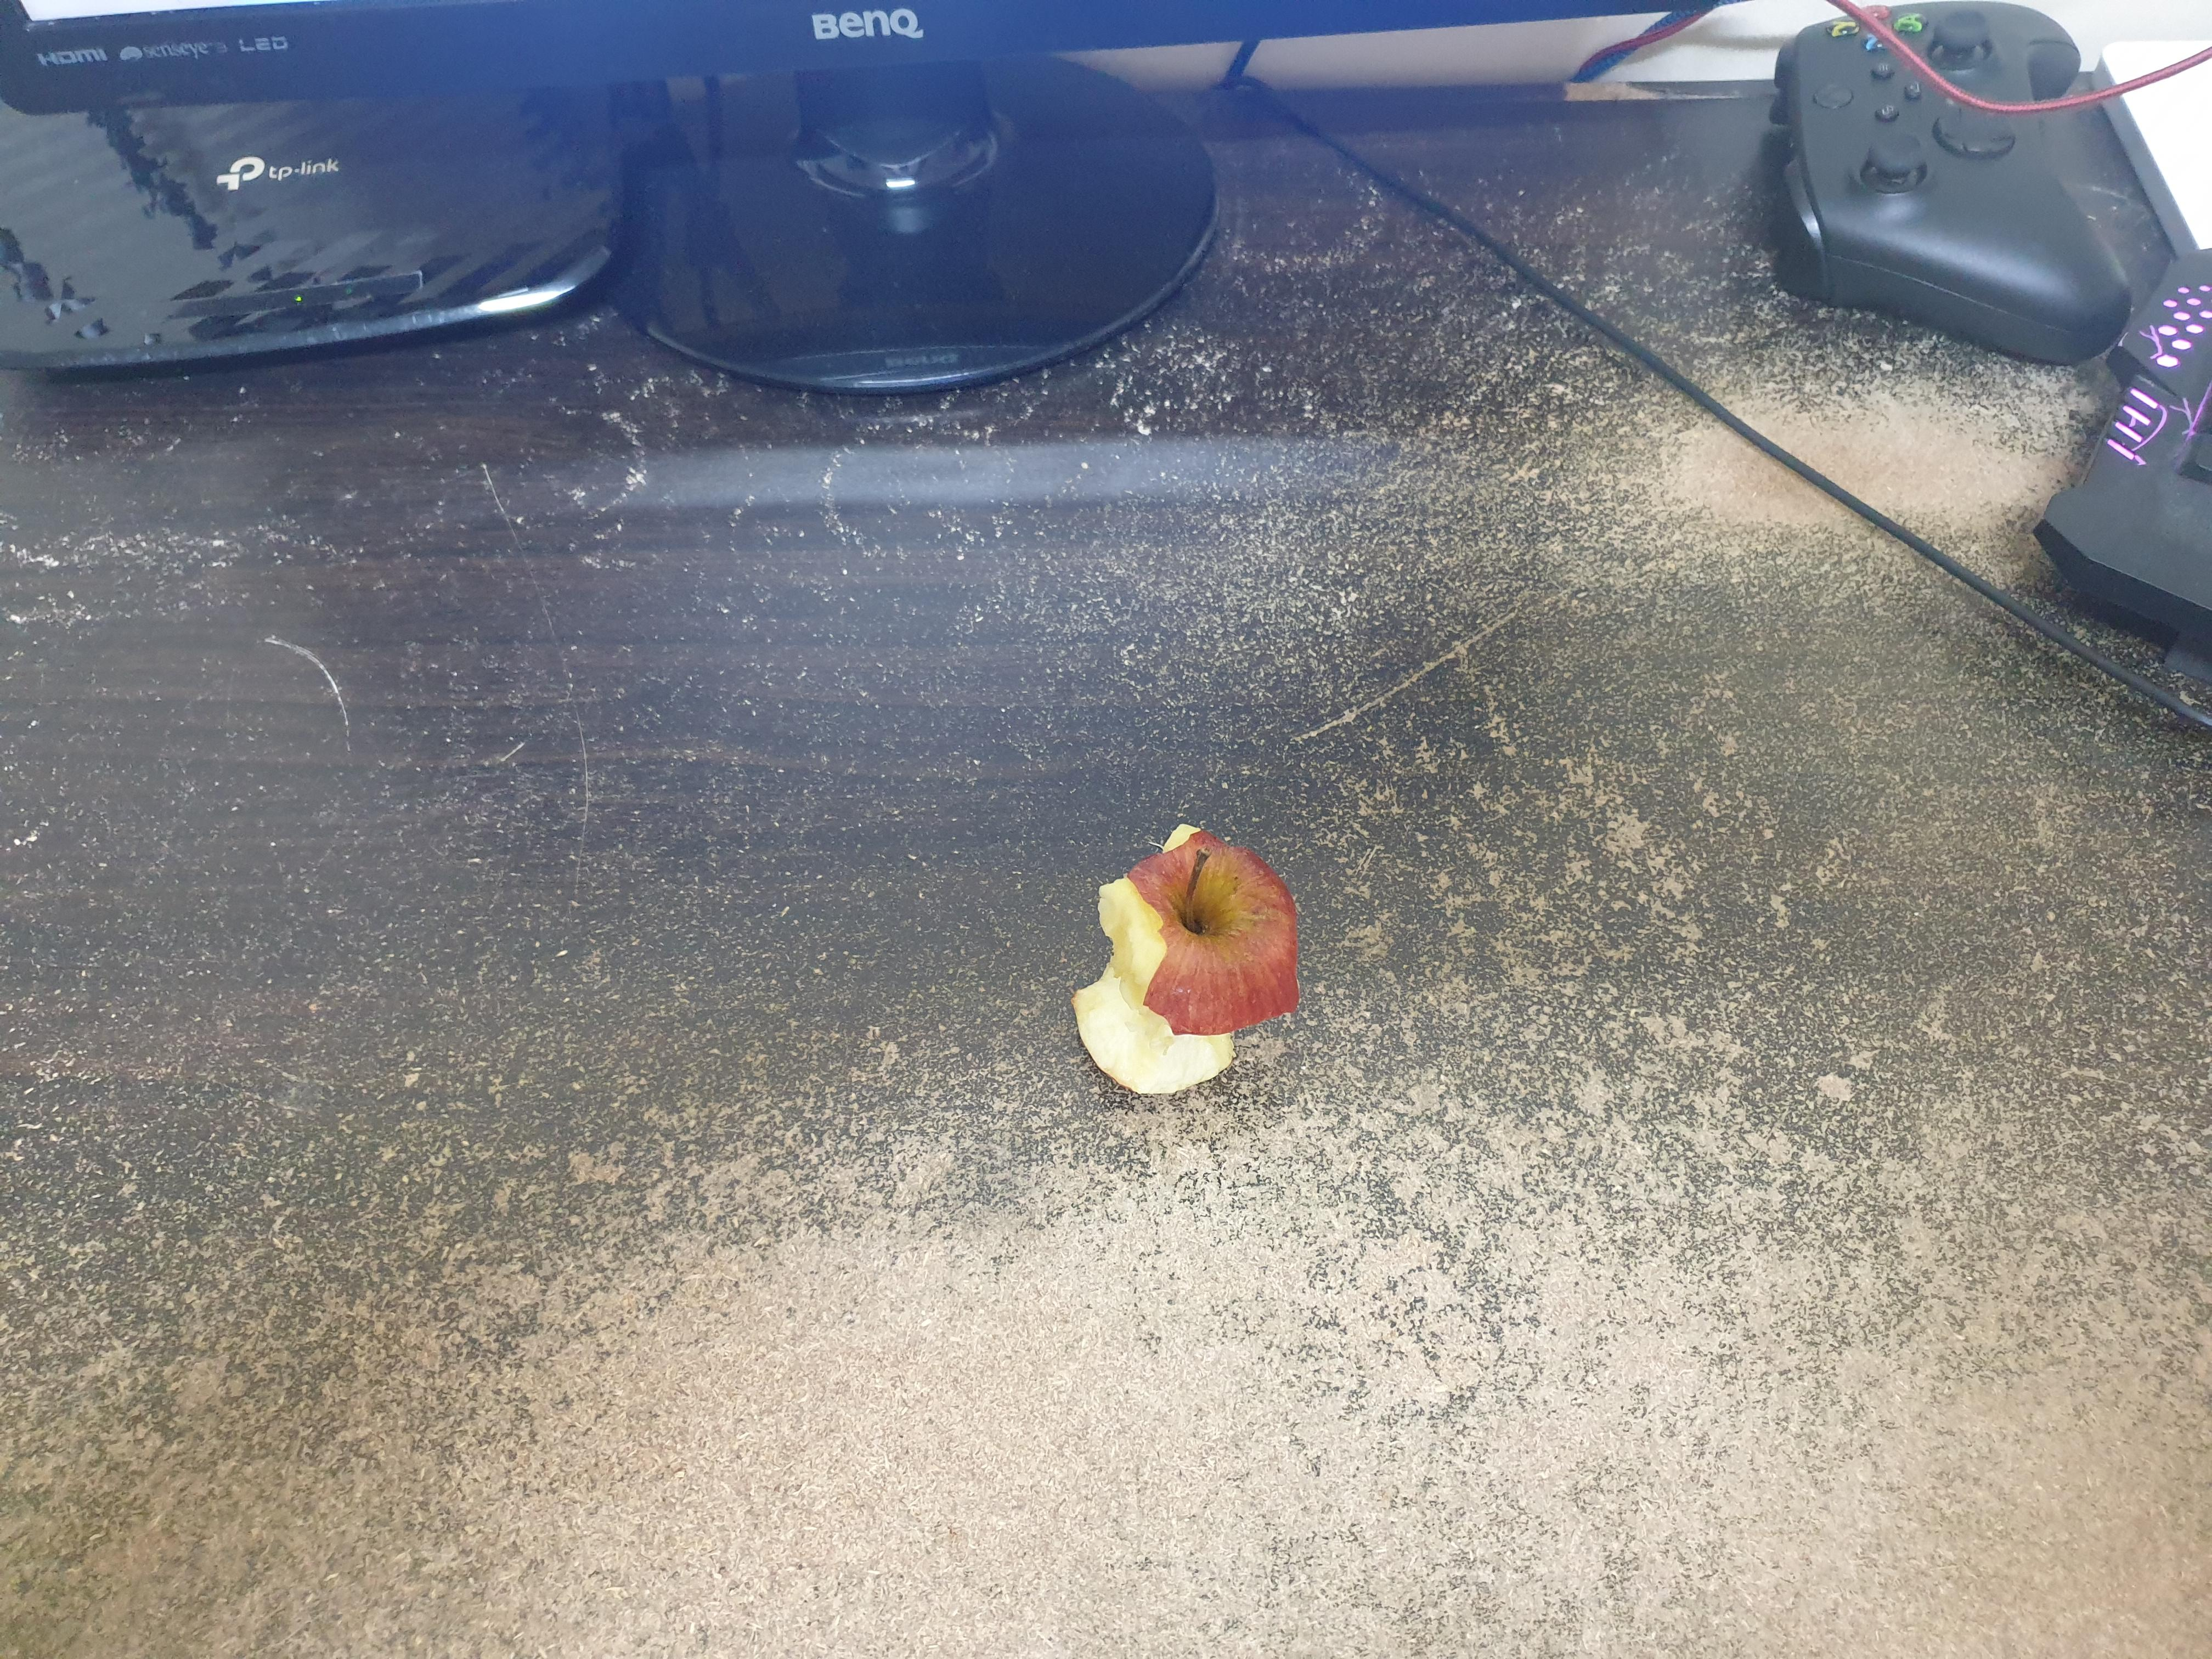Apple: (1068, 791, 1324, 1161)
